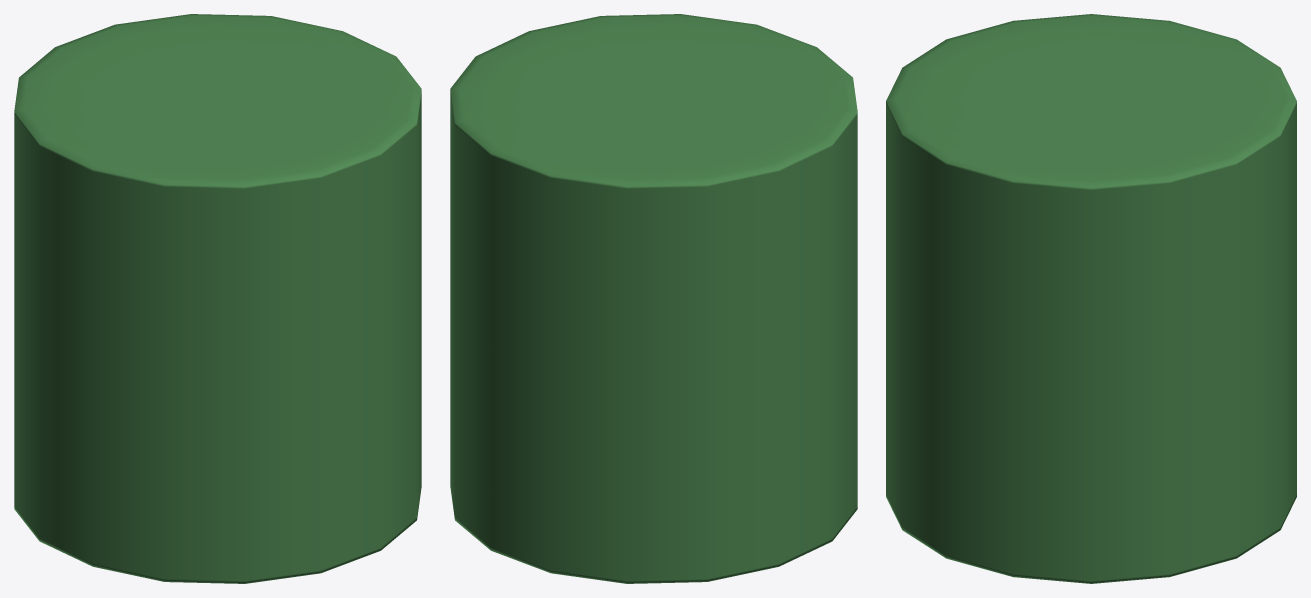
The model's file is Cilindro.fbx.
3 renders of one model, left to right at view 1: azimuth 30°, elevation 25°; view 2: azimuth 150°, elevation 25°; view 3: azimuth 270°, elevation 25°, orthographic.
Parts seen in each view (by area): view 1: pCylinder3; view 2: pCylinder3; view 3: pCylinder3.
Boxes of the visible parts, <box> form: pCylinder3: <box>14,14,421,583</box>; pCylinder3: <box>450,14,857,583</box>; pCylinder3: <box>886,14,1296,583</box>.
Bounding box in the file's own units: 1.85 × 2 × 1.85.
